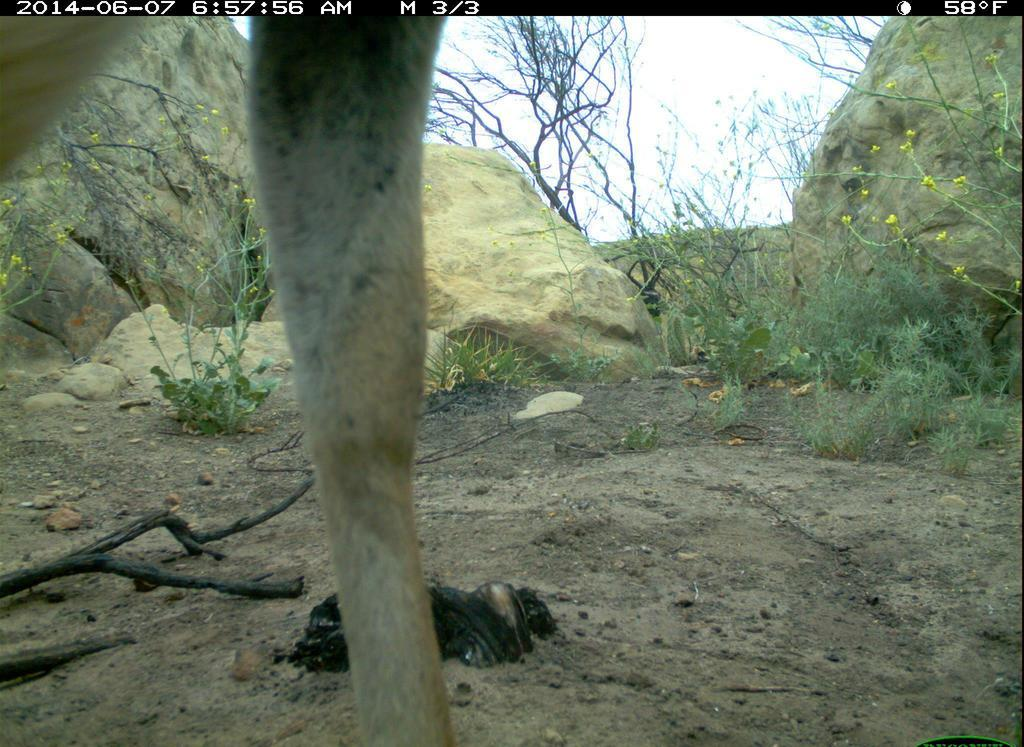deer: (1, 16, 481, 747)
